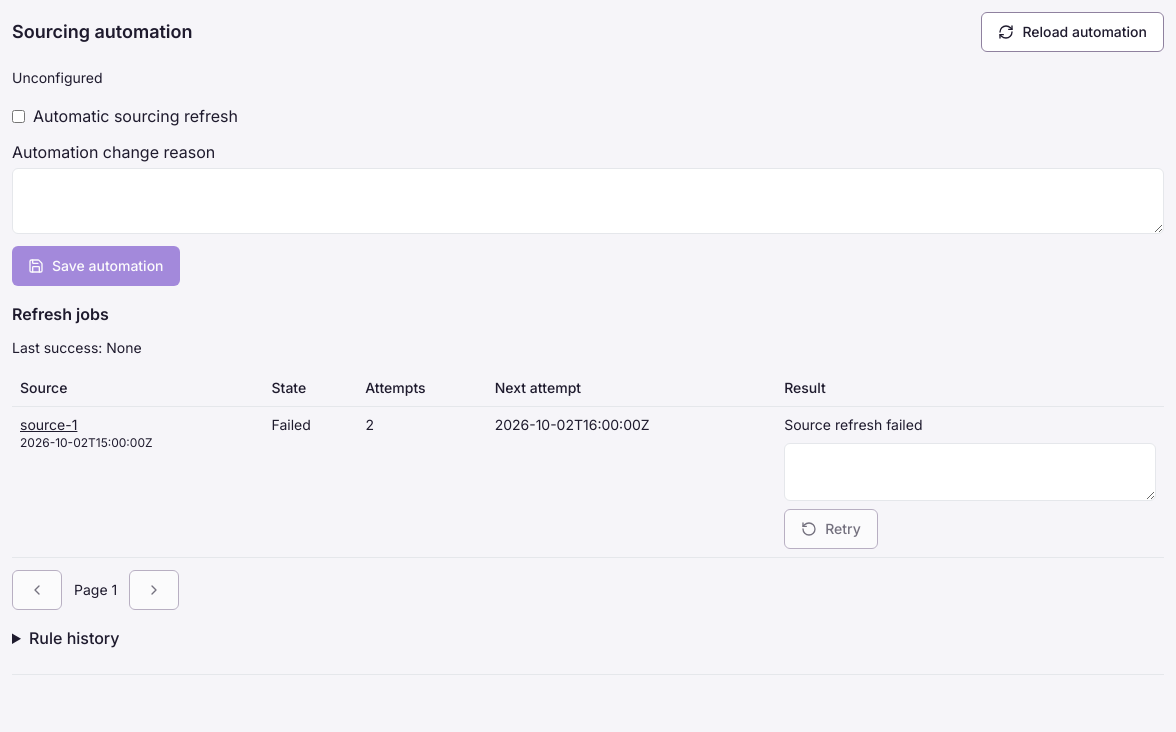
Test: Sourcing automation controls › shows persisted job failure and submits a reasoned retry with exact attempts
Expected: the text "Source refresh failed" is shown, x1=784 y1=416 x2=922 y2=433
Expected: the button with aria-label "Retry job-1" is disabled, x1=784 y1=509 x2=878 y2=549
Type "Inputs repaired" into the text box named "Retry reason job-1" at (970, 472), box x1=784 y1=443 x2=1156 y2=501
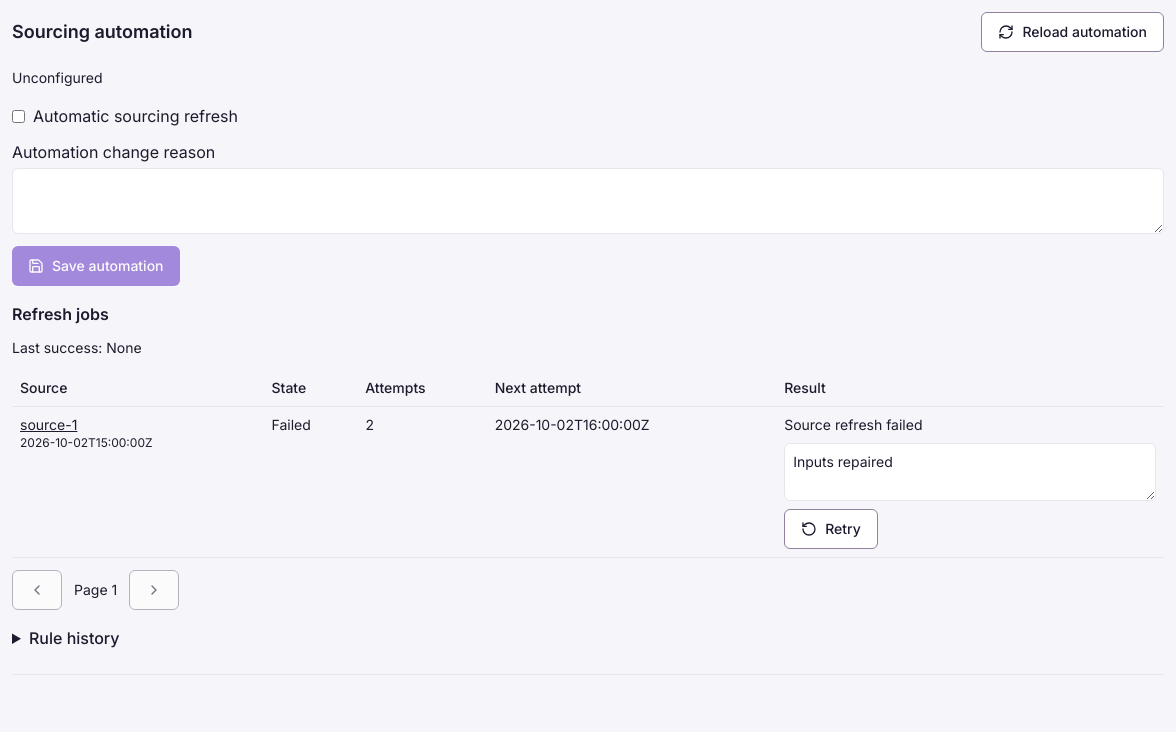
Click the button with aria-label "Retry job-1" at (831, 529), box x1=784 y1=509 x2=878 y2=549
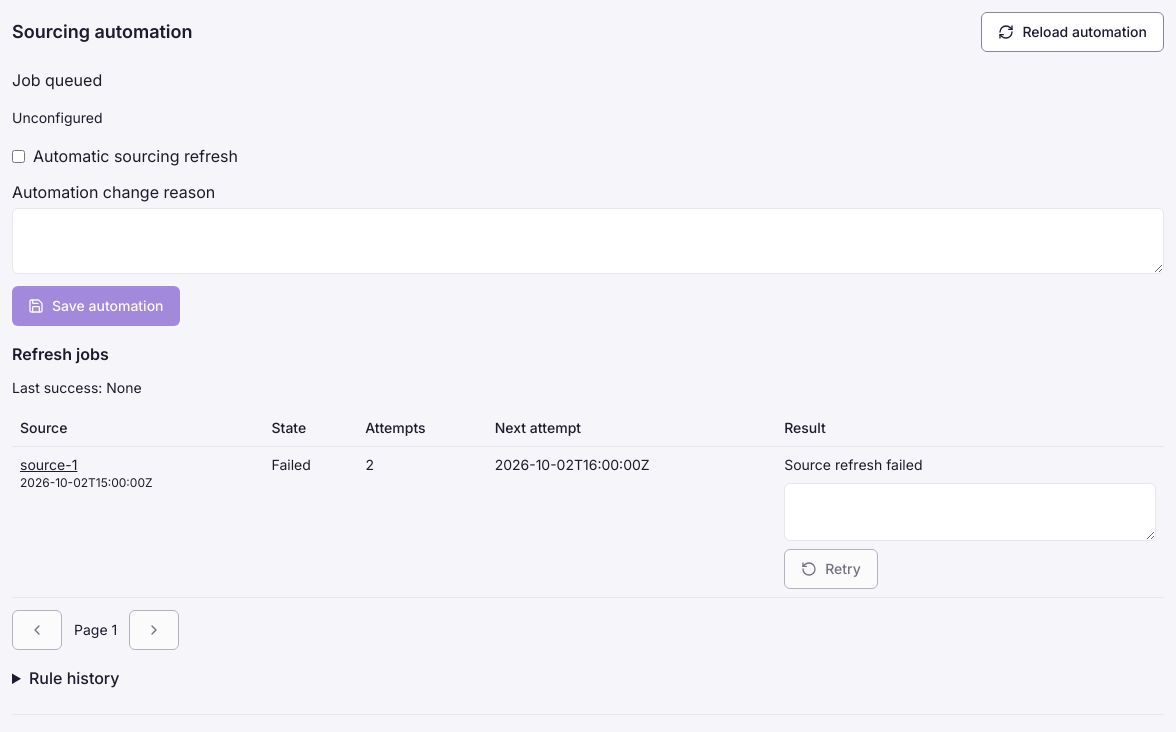
Expected: the text "Job queued" is shown, x1=12 y1=70 x2=102 y2=90
